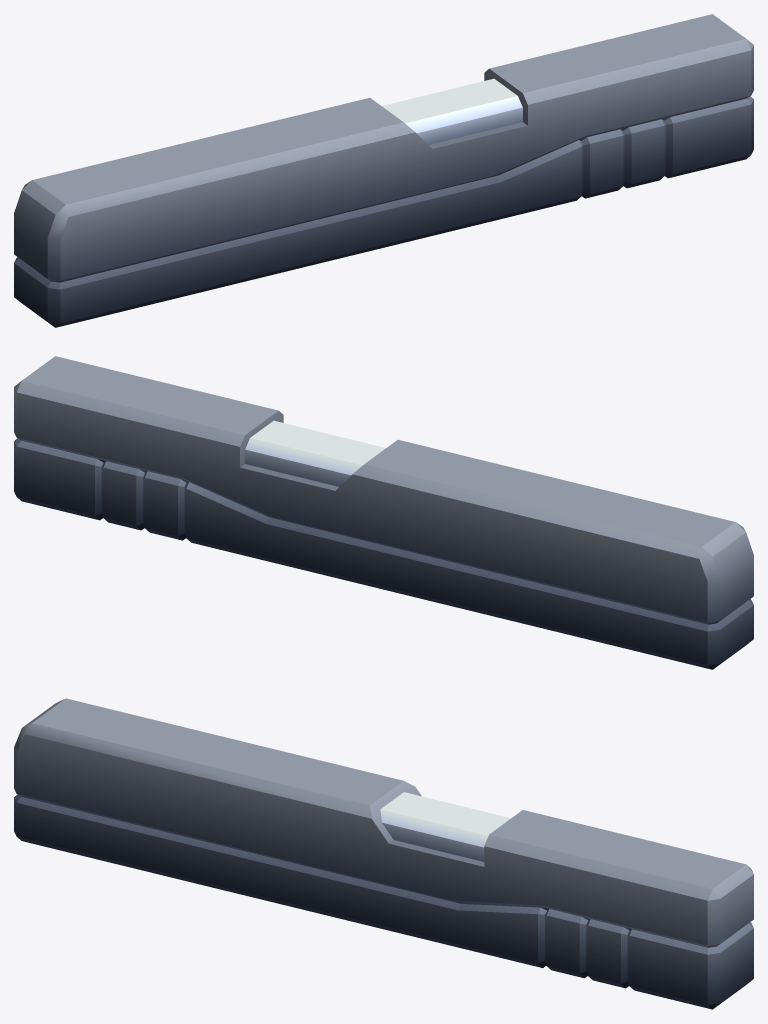
The model's file is Body2.FBX.
3 views of the same model, one above another, from view 1: azimuth 30°, elevation 25°; view 2: azimuth 150°, elevation 25°; view 3: azimuth 330°, elevation 25° (orthographic).
Parts seen in each view (by area): view 1: Box020; view 2: Box020; view 3: Box020.
Part boxes in pixels (left/top/right/bottom): Box020: left=14, top=14, right=753, bottom=327; Box020: left=14, top=356, right=753, bottom=669; Box020: left=14, top=698, right=753, bottom=1009.
Bounding box in the file's own units: 34.09 × 5.56 × 3.65.
